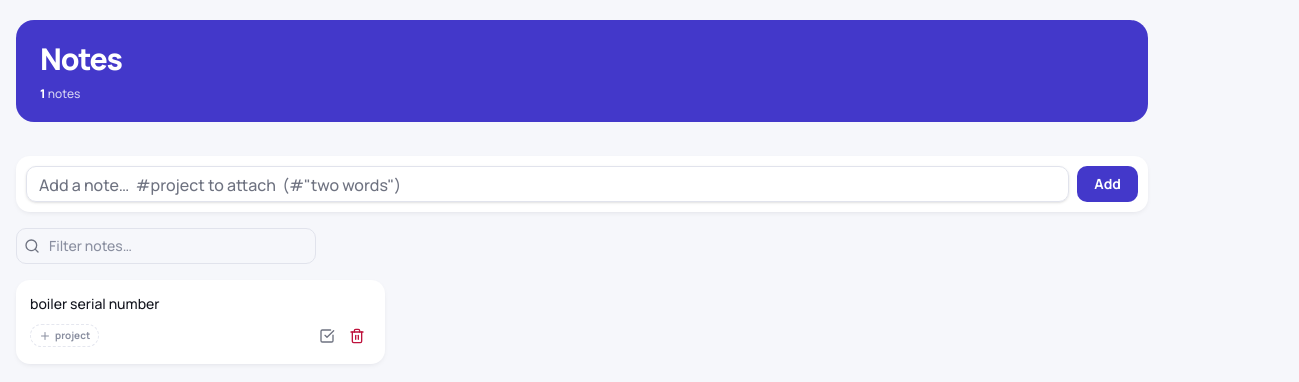
Test: deleting a note › brings the note back on undo
The width and height of the screenshot is (1299, 382).
Click the button named "Delete this note".
click(357, 336)  # box [343, 322, 371, 350]
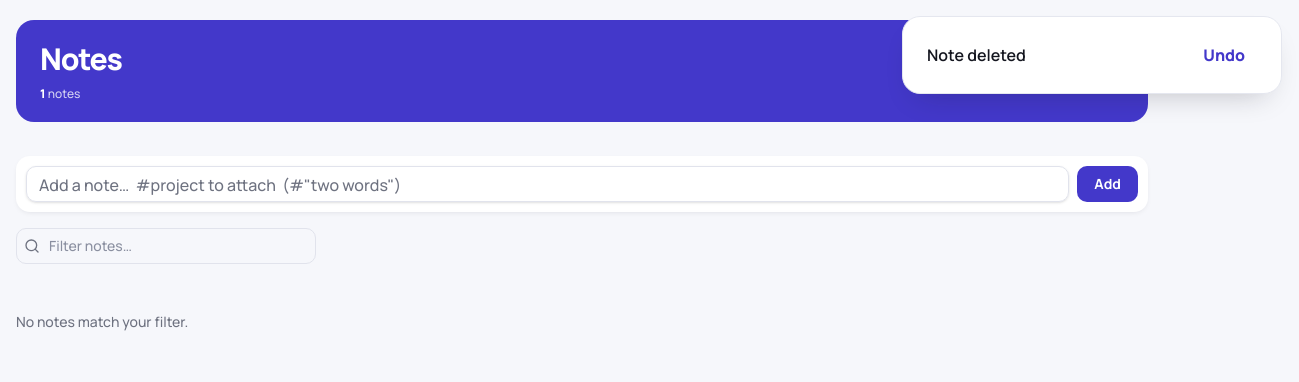
Click the button "Undo".
click(1224, 55)  # box [1191, 37, 1257, 73]
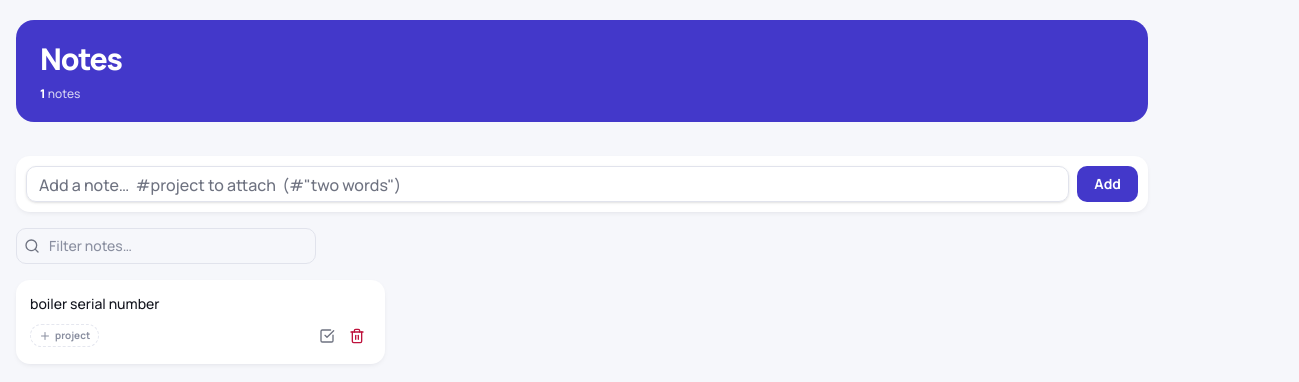
Check: the text "boiler serial number" is shown, box [30, 294, 160, 312]
